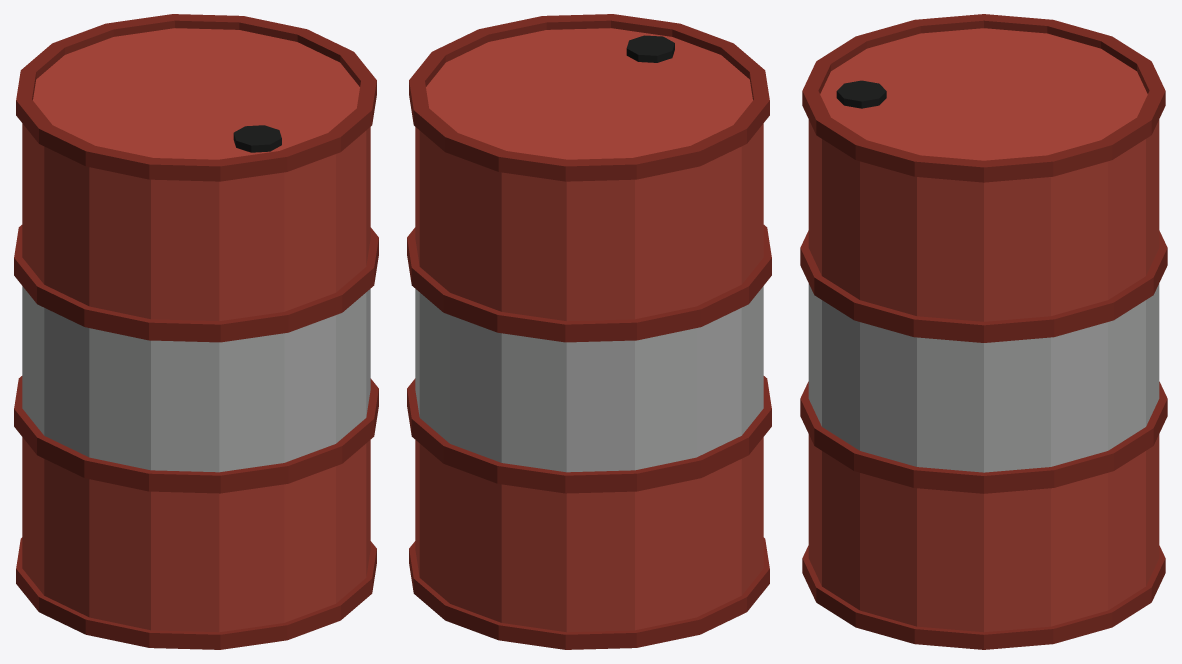
Rendered from SM_Props_Barrel_03.glb.
3 views of the same model, side by side, from view 1: azimuth 30°, elevation 25°; view 2: azimuth 150°, elevation 25°; view 3: azimuth 270°, elevation 25° (orthographic).
Parts seen in each view (by area): view 1: SM_Props_Barrel_03; view 2: SM_Props_Barrel_03; view 3: SM_Props_Barrel_03.
Boxes of the visible parts, <box> form: SM_Props_Barrel_03: <box>14,14,378,649</box>; SM_Props_Barrel_03: <box>407,14,771,649</box>; SM_Props_Barrel_03: <box>800,14,1167,649</box>.
Size of the model in its own units: 0.607 by 0.88 by 0.607.
Materials: 1 (1 with a texture image).
